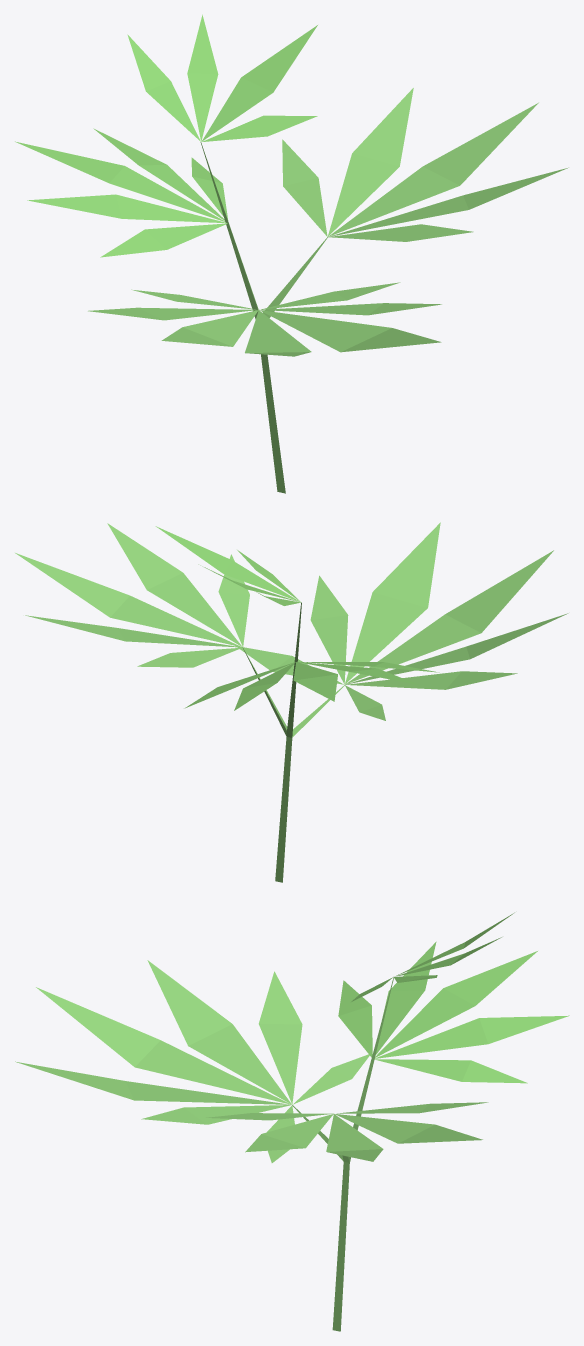
File: Plant_i_OneS_02.fbx
The picture shows the model from 3 angles, top to bottom: view 1: azimuth 30°, elevation 25°; view 2: azimuth 150°, elevation 25°; view 3: azimuth 270°, elevation 25°; orthographic projection. The views are drawn at different scales.
Parts seen in each view (by area): view 1: Plant_i_OneS_02; view 2: Plant_i_OneS_02; view 3: Plant_i_OneS_02.
Boxes of the visible parts, bbox=[...] form: Plant_i_OneS_02: bbox=[15, 14, 568, 493]; Plant_i_OneS_02: bbox=[15, 522, 568, 882]; Plant_i_OneS_02: bbox=[15, 912, 569, 1331].
Size of the model in its own units: 53.71 by 41.94 by 53.25.
